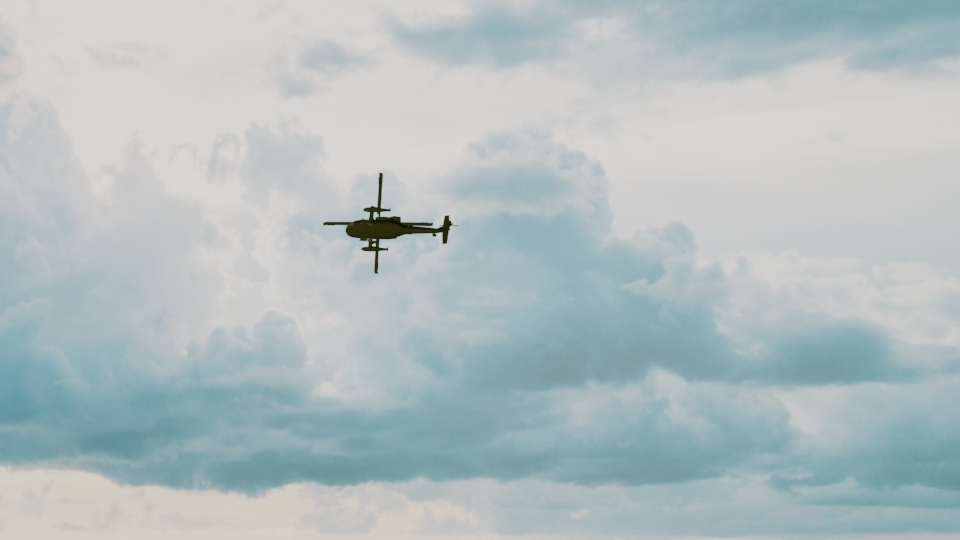heli: (344, 171, 453, 276)
